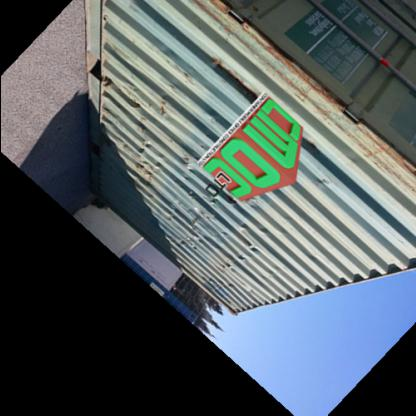Damage: (216, 60, 271, 110), (102, 70, 150, 116), (238, 218, 274, 259), (124, 150, 166, 184), (202, 271, 236, 302), (175, 218, 207, 248), (158, 80, 180, 118), (200, 188, 237, 210), (179, 140, 199, 169), (311, 171, 340, 188)
